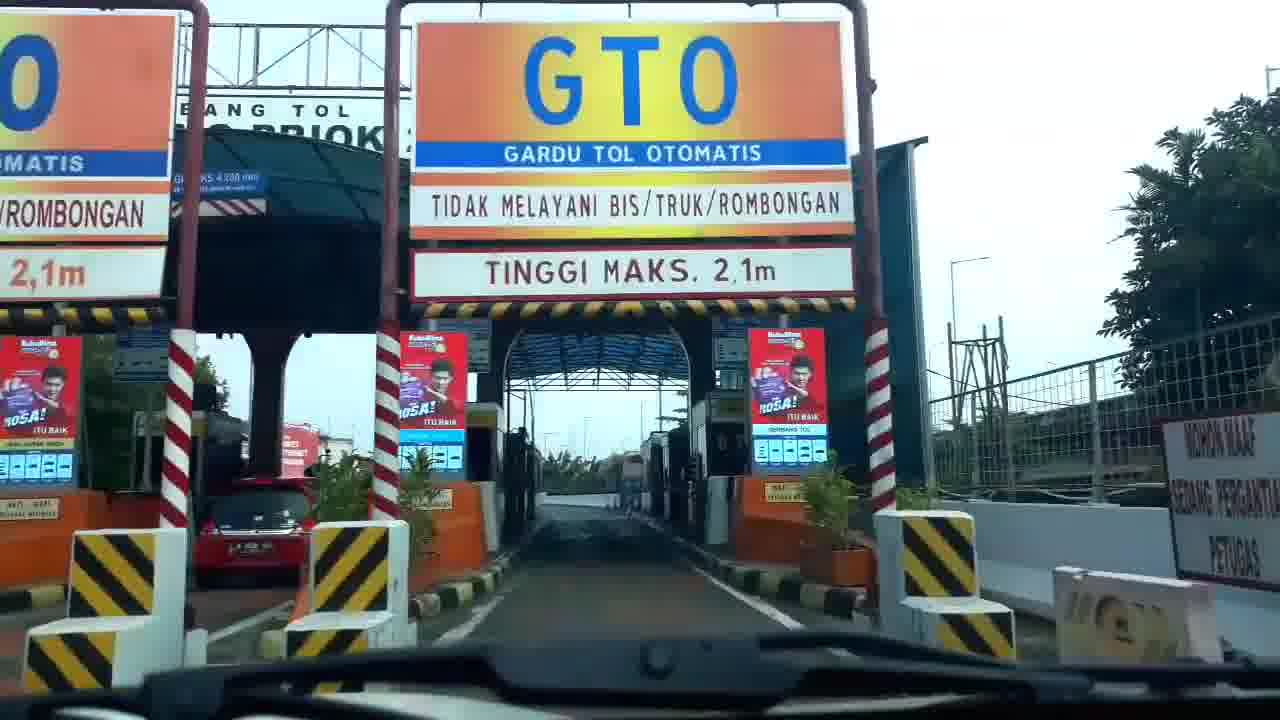plate_positive: (234, 541, 273, 554)
